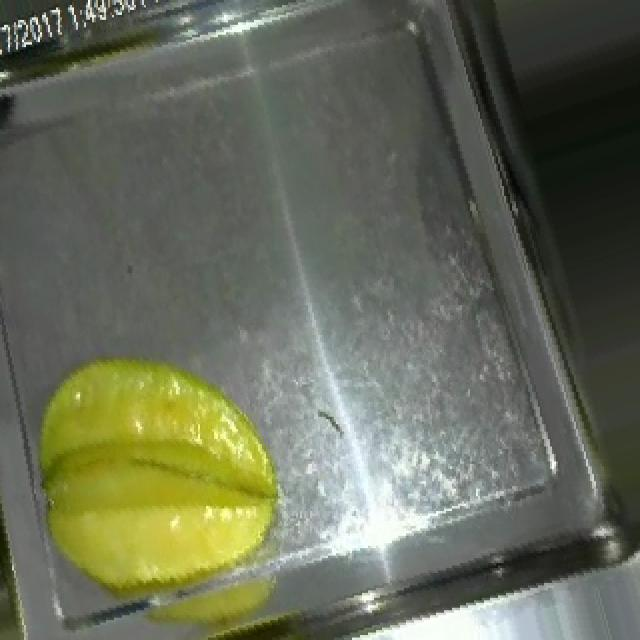fruit: (6, 322, 322, 638)
